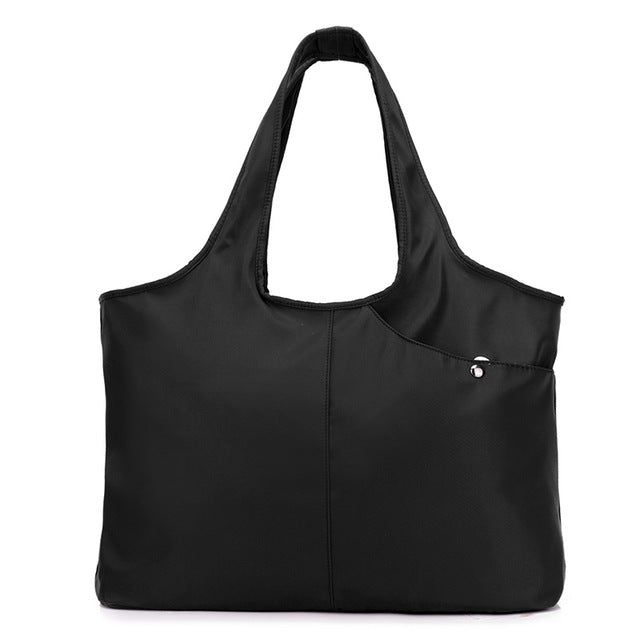nylon: (95, 26, 566, 616)
